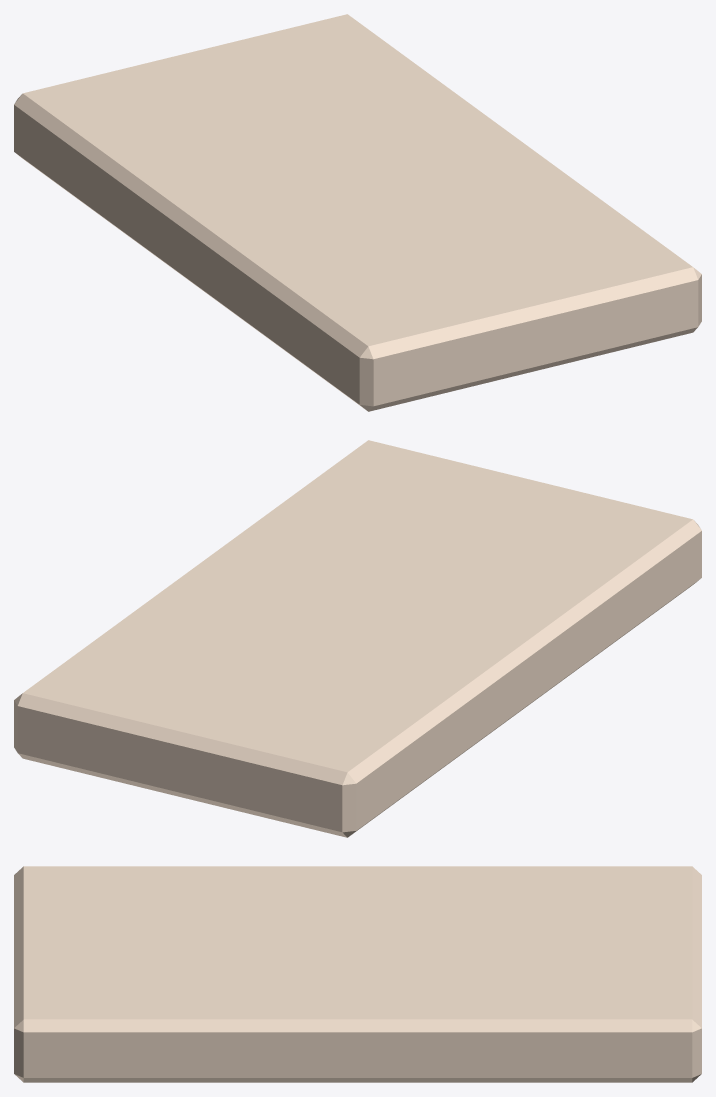
Rendered from apocalypse_mattress-small.fbx.
3 renders of one model, top to bottom at view 1: azimuth 30°, elevation 25°; view 2: azimuth 150°, elevation 25°; view 3: azimuth 270°, elevation 25°, orthographic. The views are drawn at different scales.
Visible parts, largest first — view 1: apocalypse_mattress_small; view 2: apocalypse_mattress_small; view 3: apocalypse_mattress_small.
Part boxes in pixels (<box>): apocalypse_mattress_small: <box>14,14,701,411</box>; apocalypse_mattress_small: <box>14,440,701,837</box>; apocalypse_mattress_small: <box>14,866,701,1082</box>.
Size of the model in its own units: 111 by 20.32 by 200.
